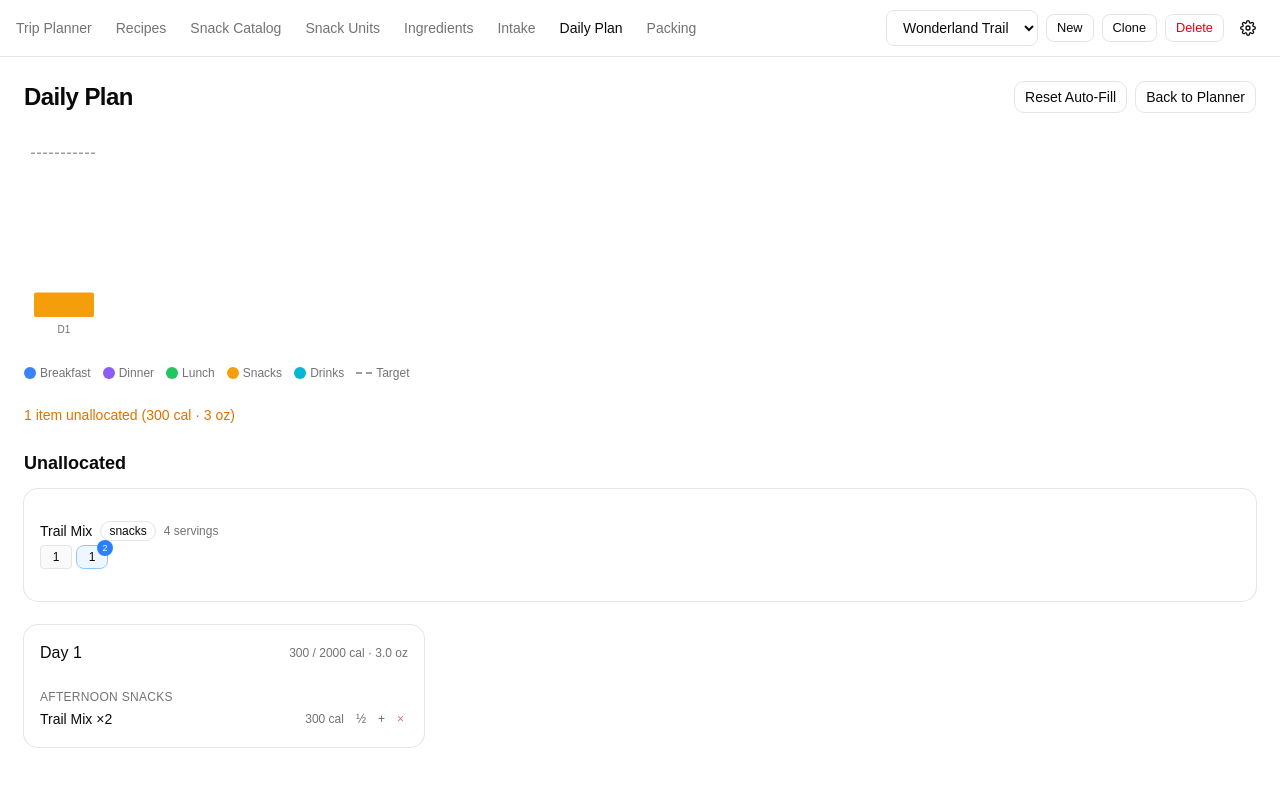
Test: DailyPlanPage › an assignment mutation updates the rendered plan from the response body
Click the button named "Assign Trail Mix to day 1" at [92, 557], box x1=76 y1=545 x2=108 y2=569
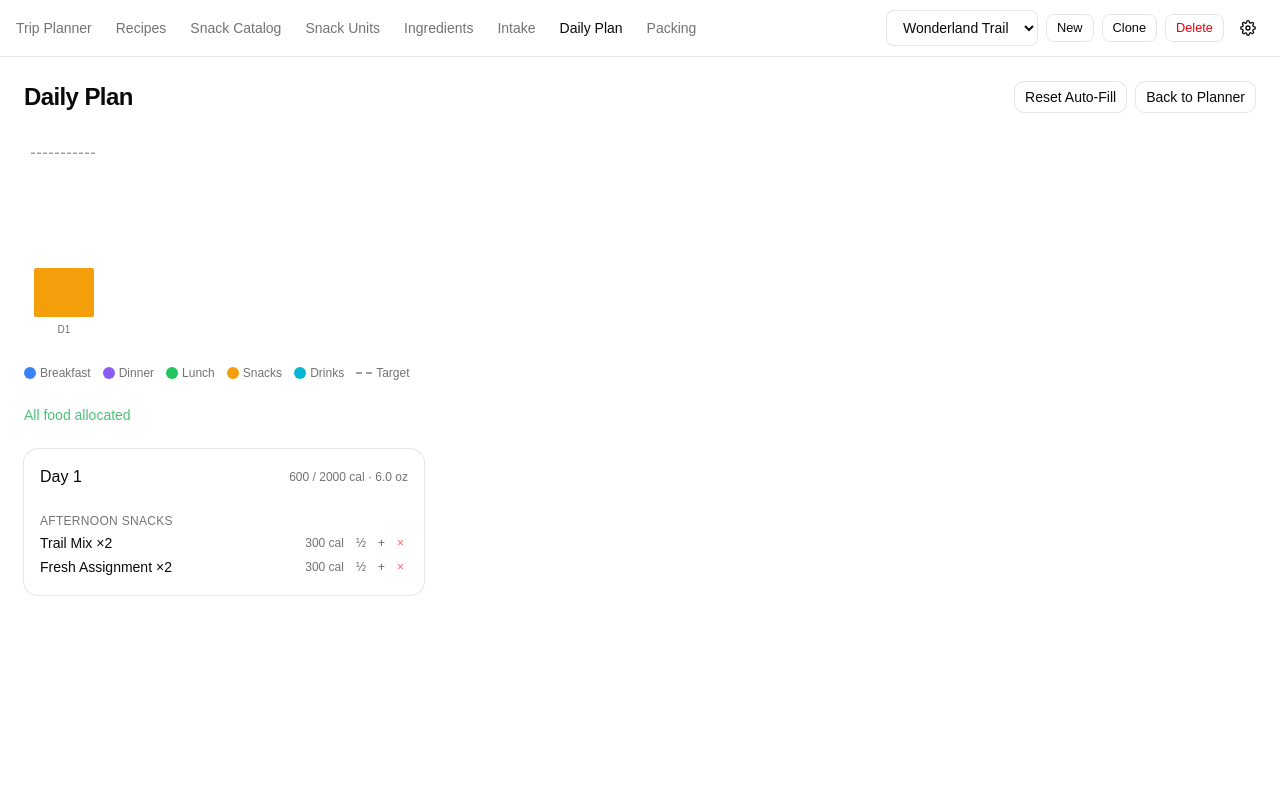
expect the text "Fresh Assignment ×2" is shown: met, box x1=40 y1=559 x2=172 y2=575
